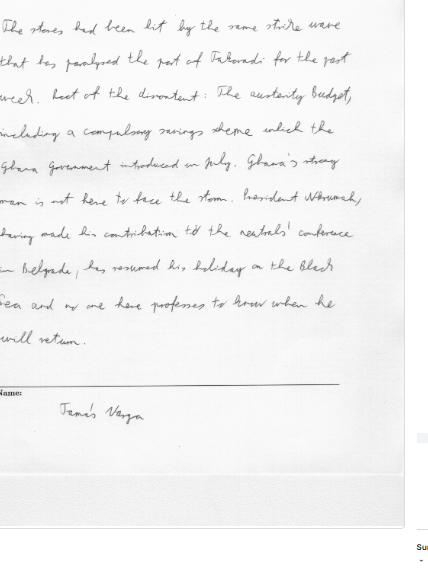text: (0, 218, 357, 248), (0, 151, 342, 180), (0, 47, 353, 75), (0, 254, 338, 282), (0, 289, 339, 316), (0, 118, 338, 145), (0, 83, 356, 108), (0, 188, 364, 211), (1, 15, 345, 37), (56, 400, 144, 428), (0, 328, 88, 349), (0, 387, 22, 398), (416, 543, 428, 551)
